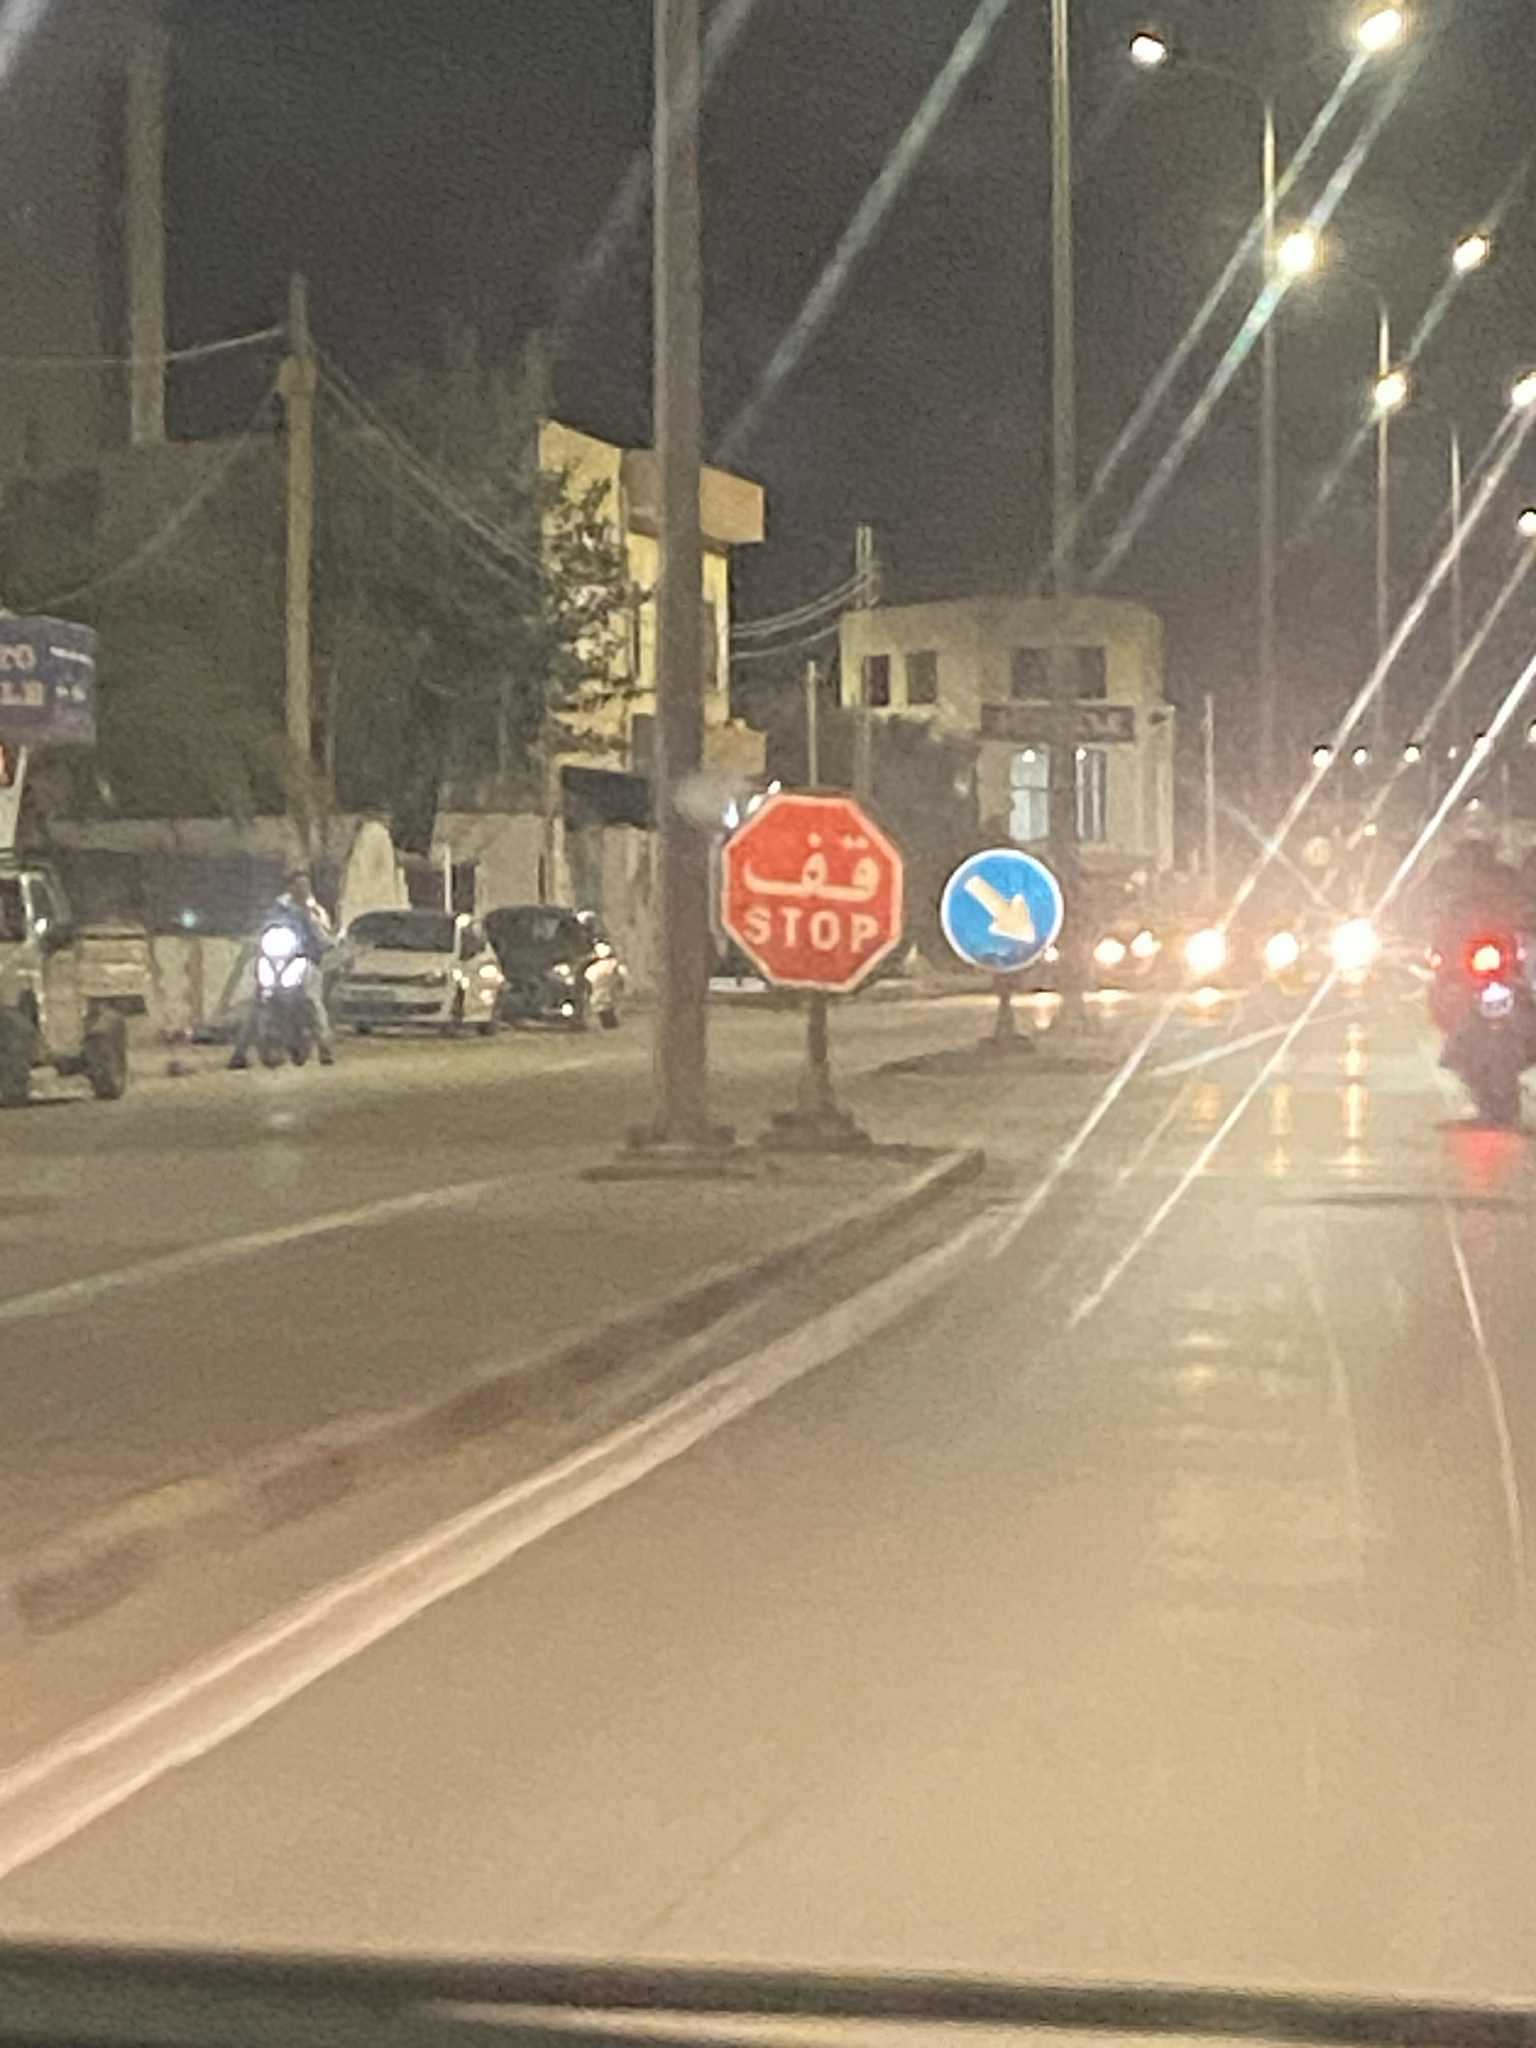Stop: (715, 790, 904, 997)
